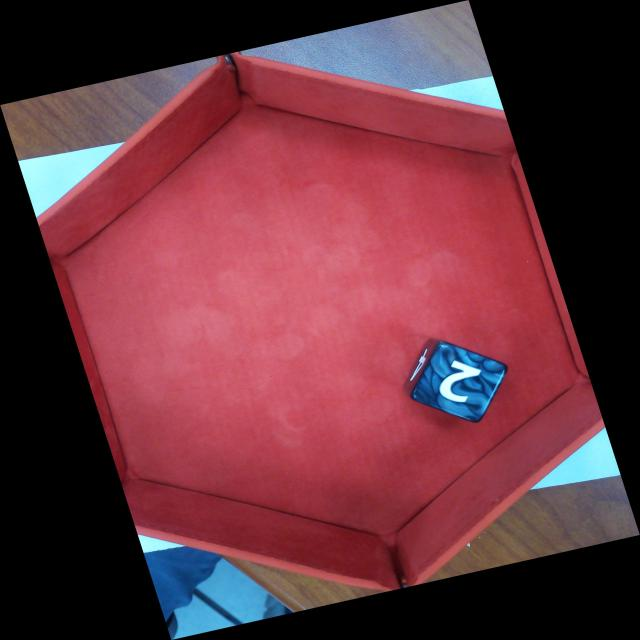dice: (408, 341, 509, 424)
